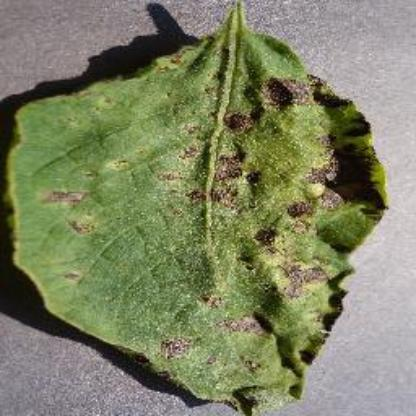Early-Blight: (6, 6, 392, 414)
